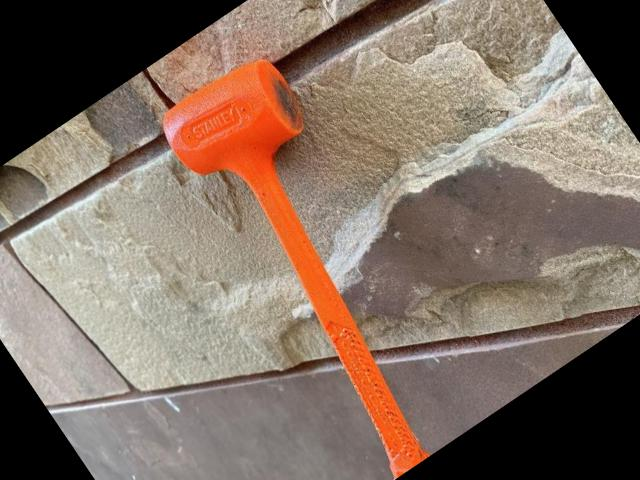hammer: (148, 45, 505, 480)
